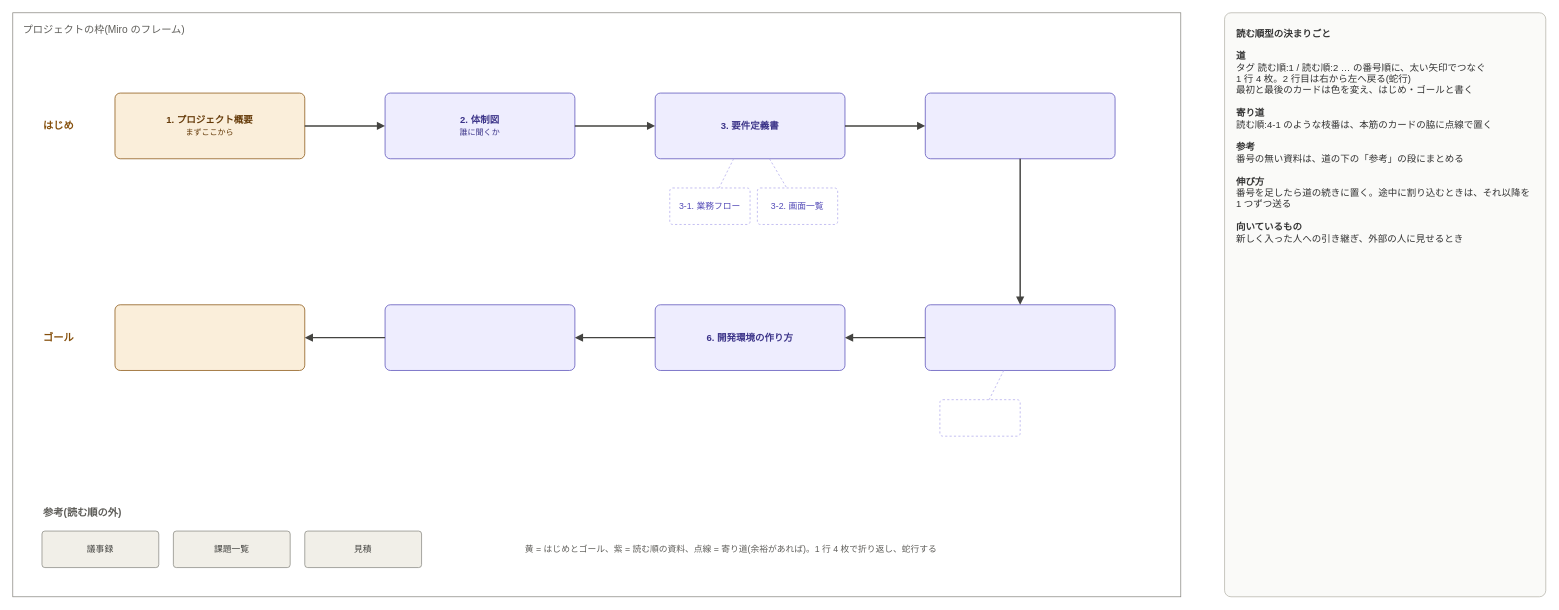
Image size: 1559x610. Some labels were removed from this diagram. Each missing label, with the centre of its shape:
4. 用語集: point 1020,125
5-1. DB 設計: point 979,417
5. 基本設計書: point 1020,337
7. コーディング規約: point 479,337
8. 作業の流れ ここまで読めば作業に入れる: point 209,337
